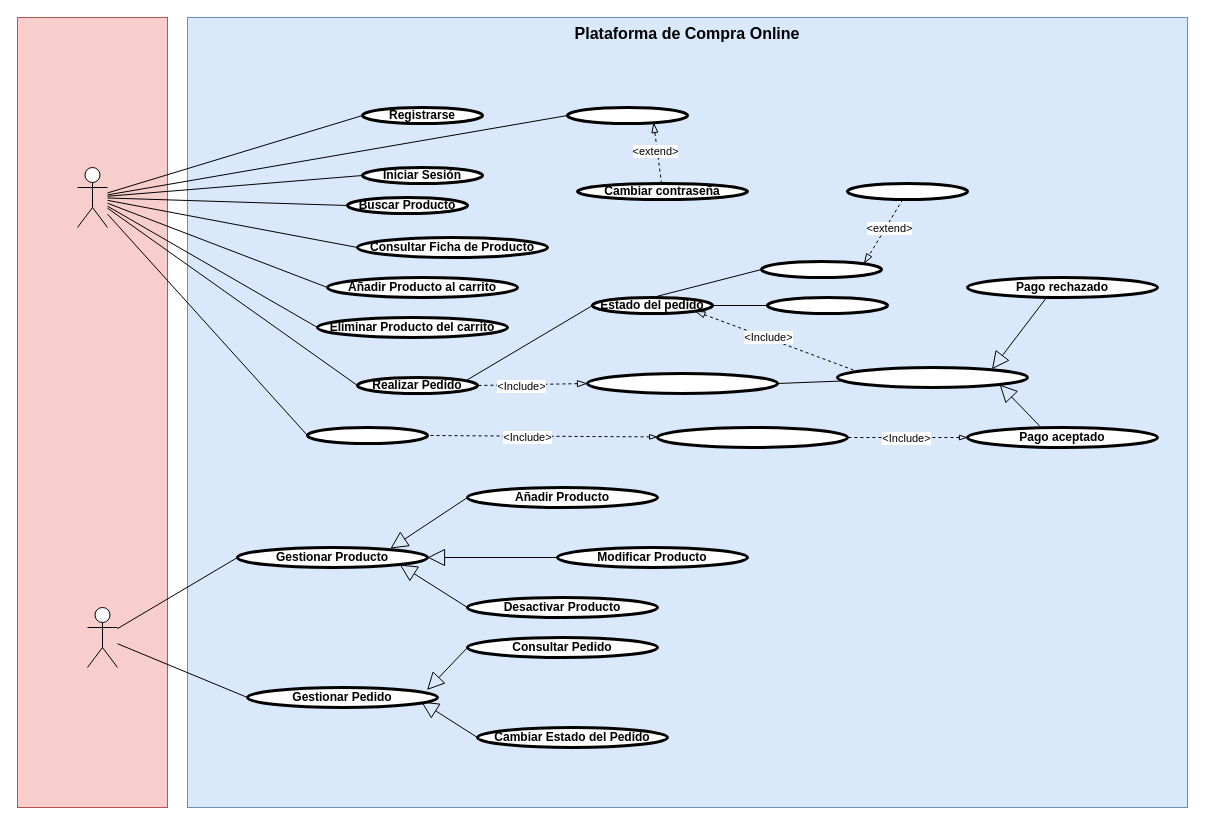
Some shapes in this 1205 by 825 pixel diagram are drawn without their labels. The centre of each missing label's shape, as x and y in pixels:
"Administrador" goes at [102,637].
"Cancelar pedido" goes at [907,191].
"Confirmación del pago" goes at [752,437].
"Email" goes at [367,435].
"Entregado" goes at [827,305].
"FInalizacion del pago" goes at [932,377].
"Metodo de Pago" goes at [682,383].
"Modificar Perfíl" goes at [627,115].
"Pendiente" goes at [821,269].
"Usuario" goes at [92,197].
